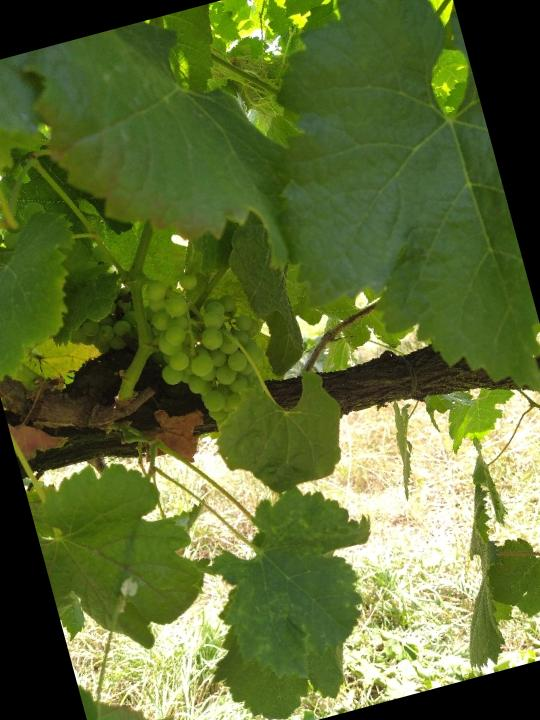grape: (137, 251, 288, 443)
